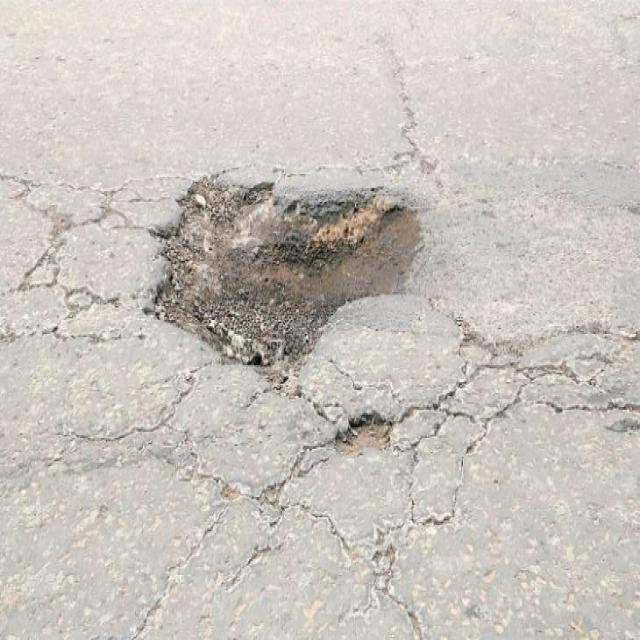pothole: (140, 154, 423, 393)
